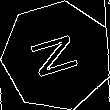N_E: (26, 29, 87, 83)
